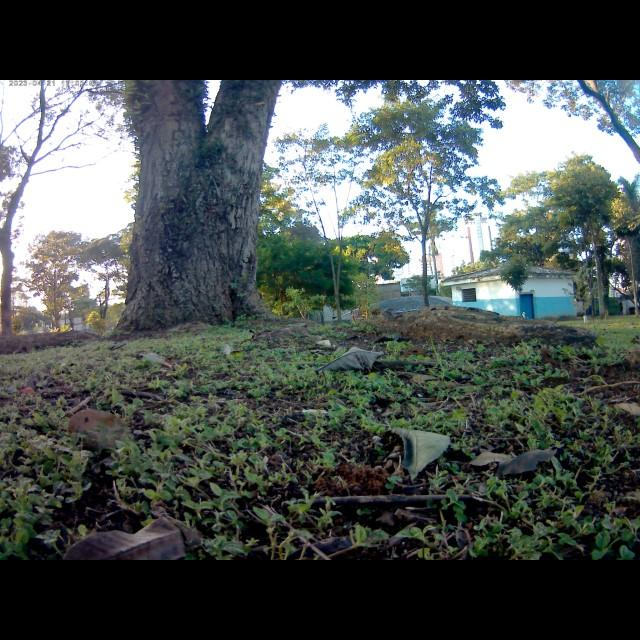arvore: (98, 80, 288, 349)
